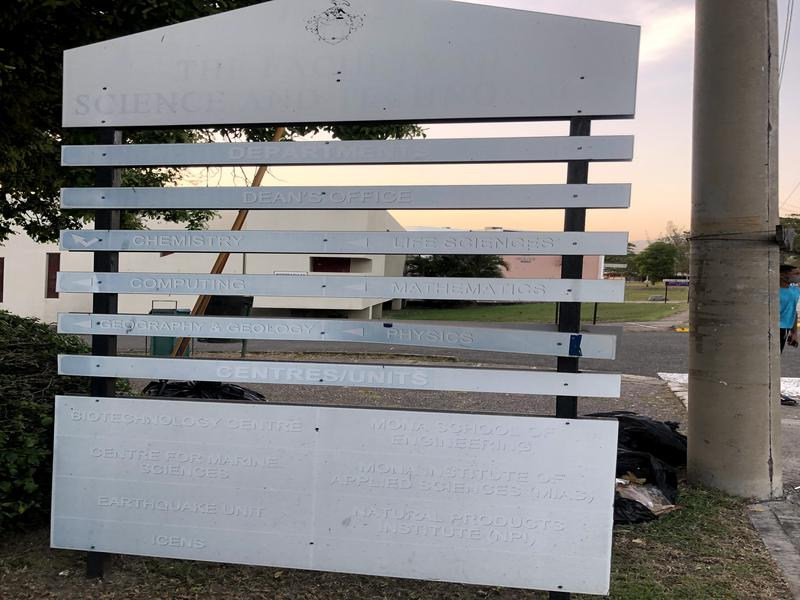18.0055634_-76.7484079_scitechsign: (42, 1, 662, 600)
